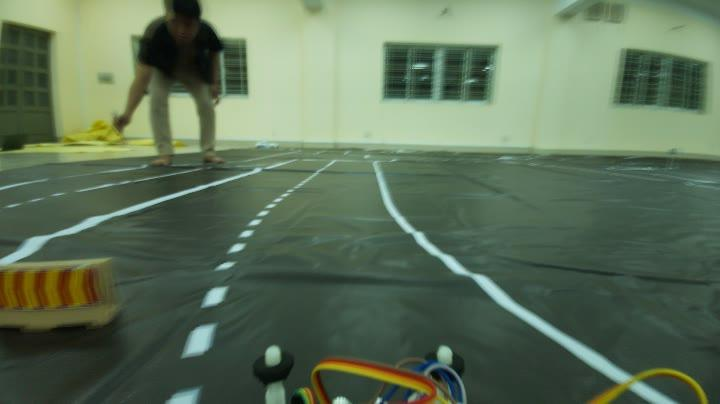roadblock: (5, 256, 114, 328)
